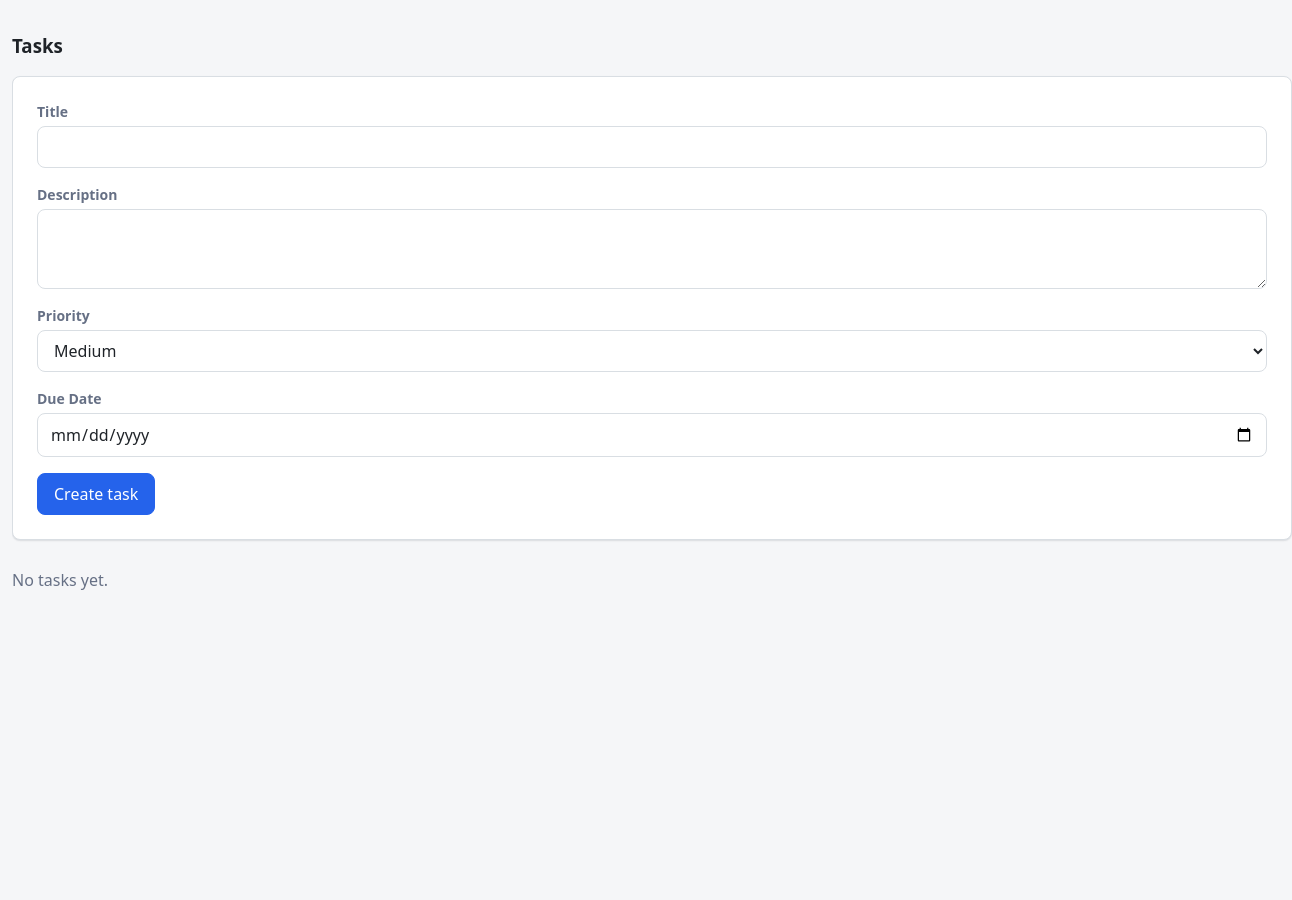
Scenario: TasksSection › creating a task sends a real POST with projectId, assignedUserId: null, and no extra fields
The width and height of the screenshot is (1292, 900).
Expected: the text "No tasks yet." is shown, x1=12 y1=569 x2=108 y2=591
Step 1. Type "Write spec" into the field labelled "Title" → point(652, 147), box x1=37 y1=126 x2=1267 y2=168
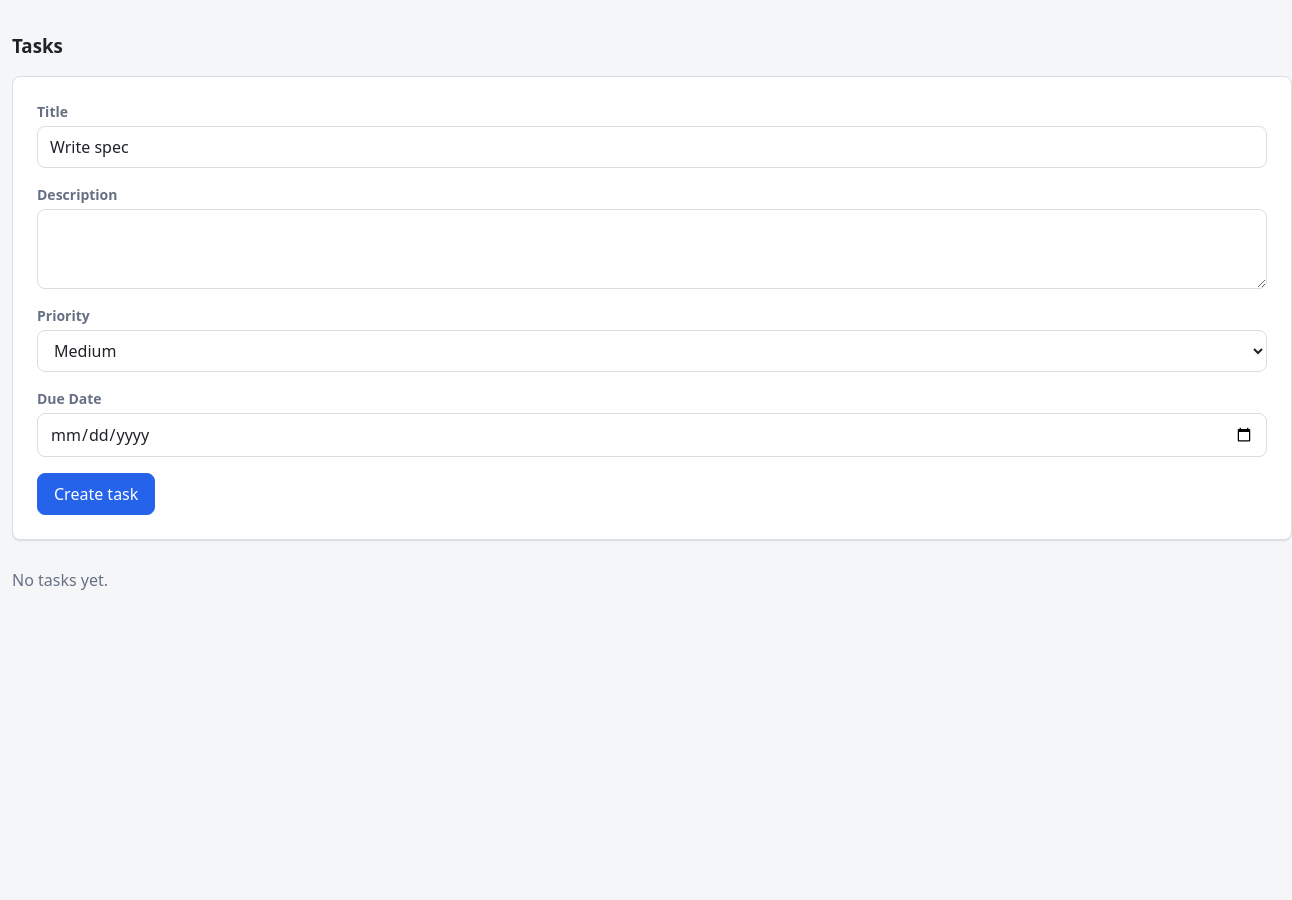
Step 2. Click the button "Create task" → point(96, 494), box x1=37 y1=473 x2=155 y2=515
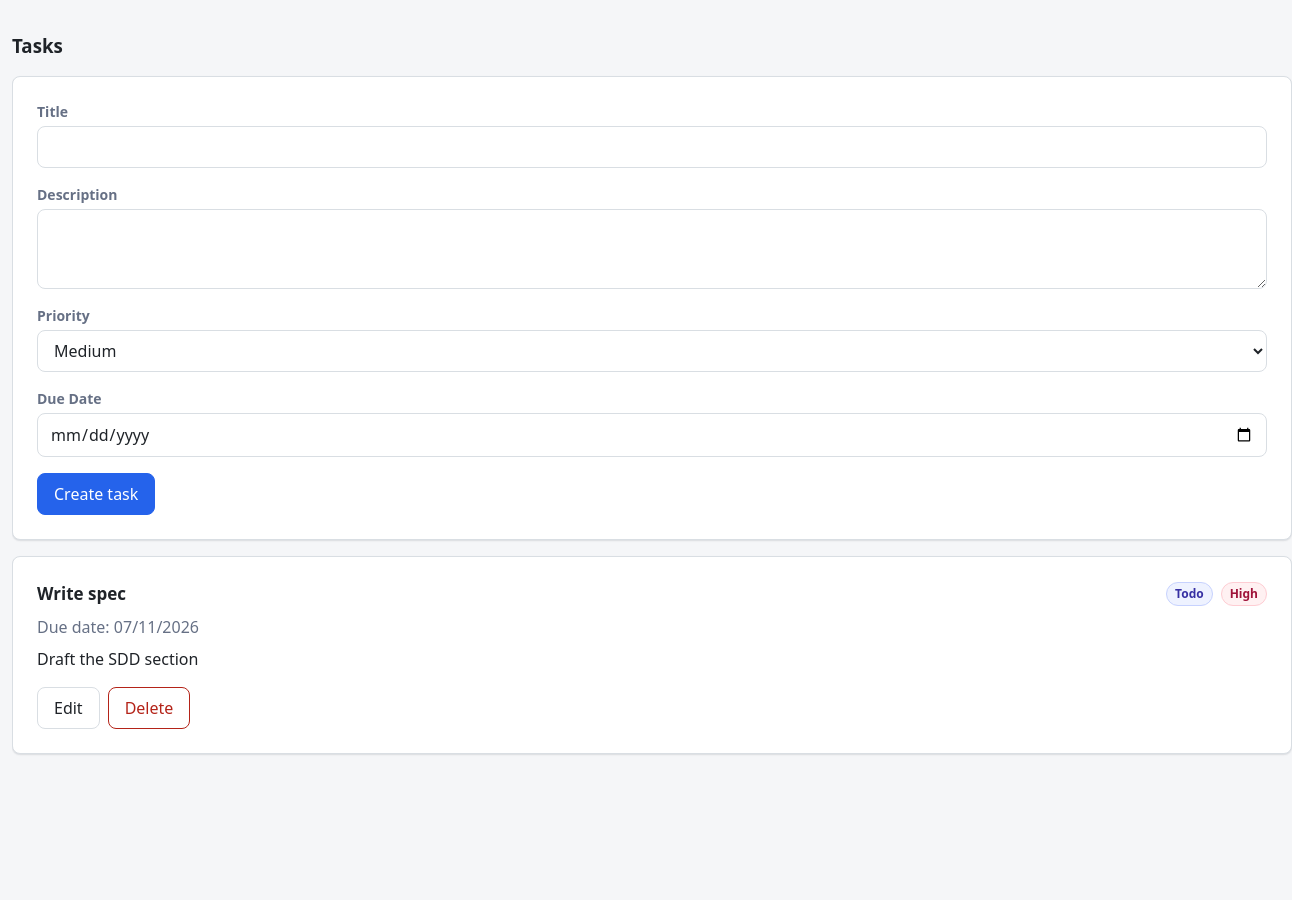
Expected: the text "Write spec" is shown, x1=37 y1=581 x2=126 y2=607
